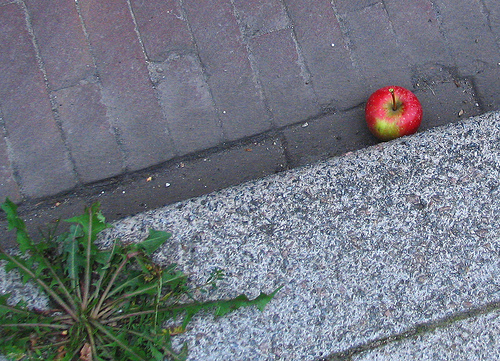apple: (364, 85, 424, 139)
